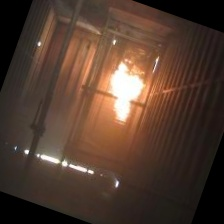fire: (93, 55, 151, 129)
